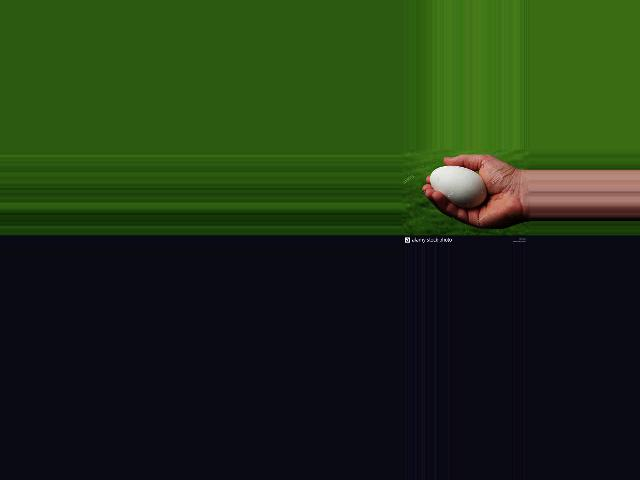egg: (430, 165, 488, 209)
